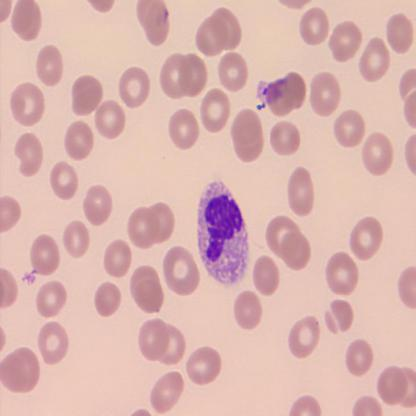Segmented neutrophil: (195, 178, 252, 287)
